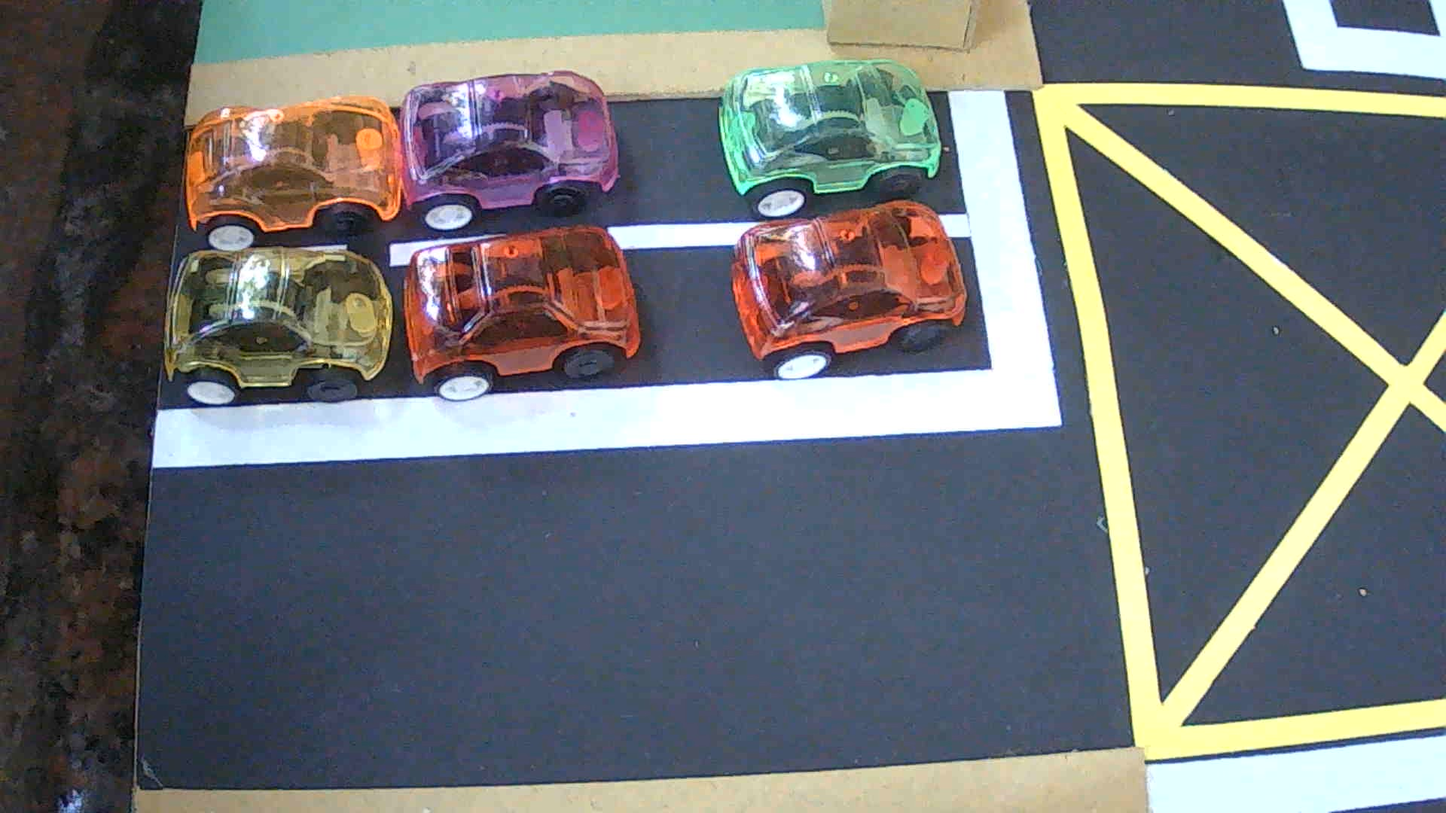Mobil hijau: (719, 59, 941, 218)
Mobil kuning: (165, 247, 392, 404)
Mobil merah: (731, 200, 967, 379), (404, 227, 639, 401)
Mobil orange: (185, 96, 403, 248)
Mobil ungu: (398, 71, 618, 229)
